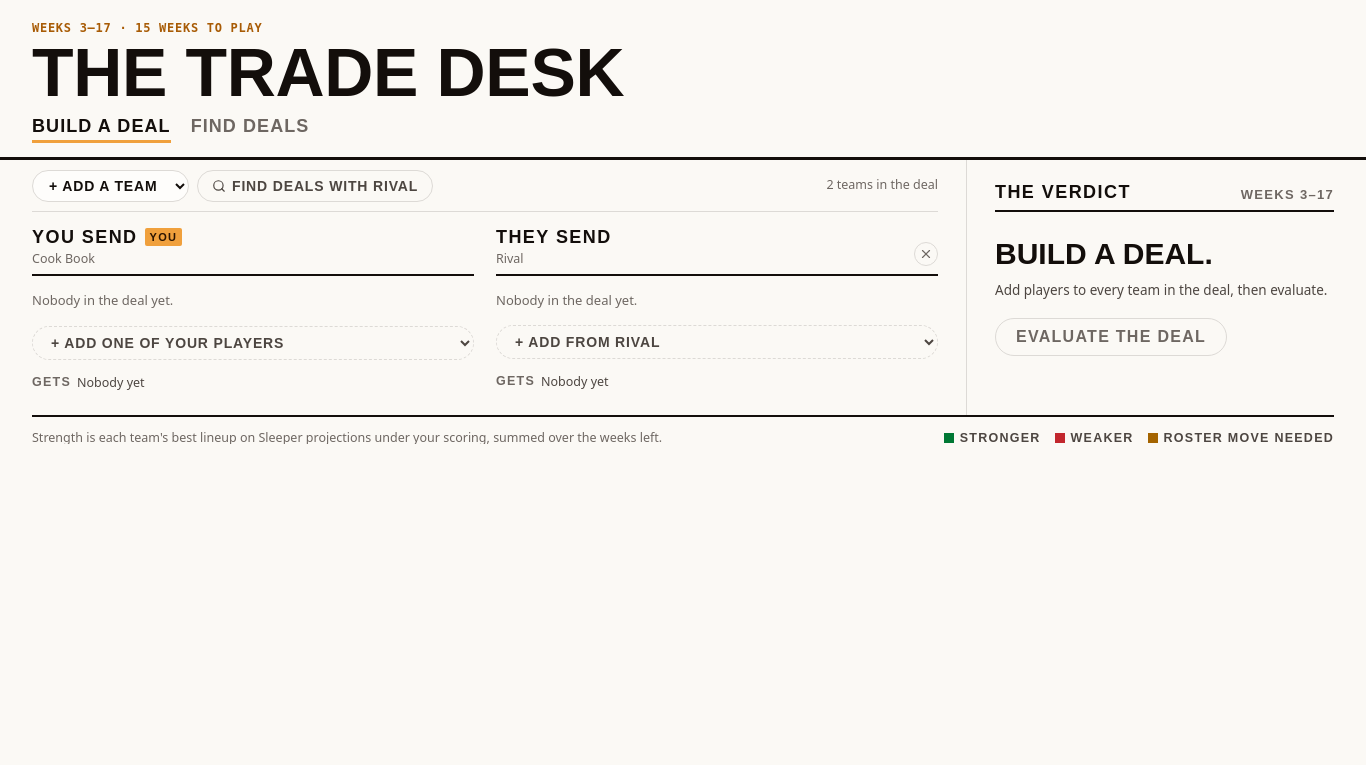
Test case: TradeScreen › shows a 3-team card with its path, every other team and the other ways
Expected: the dropdown named "Add to You send" is shown, [32, 326, 474, 360]
Click the tab "Find deals" at (250, 130), box [191, 117, 309, 143]
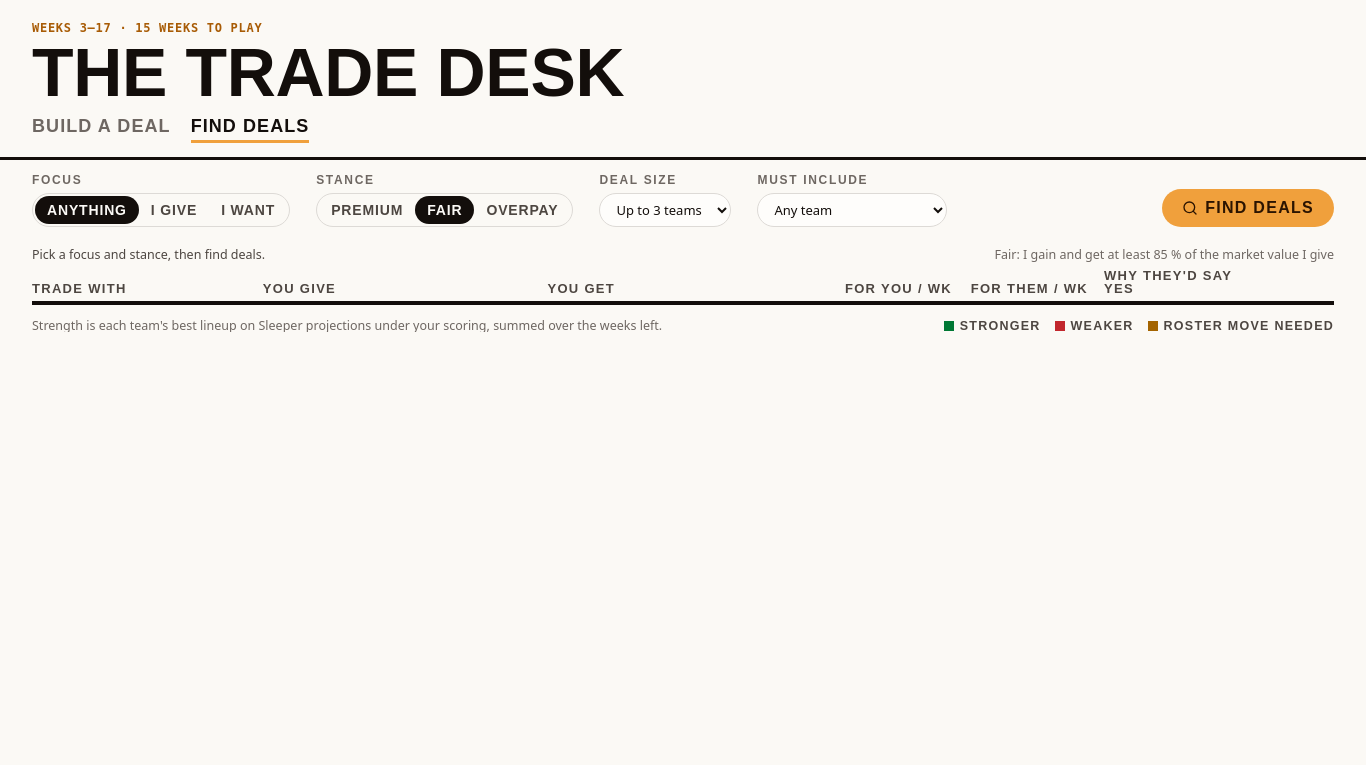
Click the button "Find deals" at (1248, 208), box [1162, 189, 1334, 227]
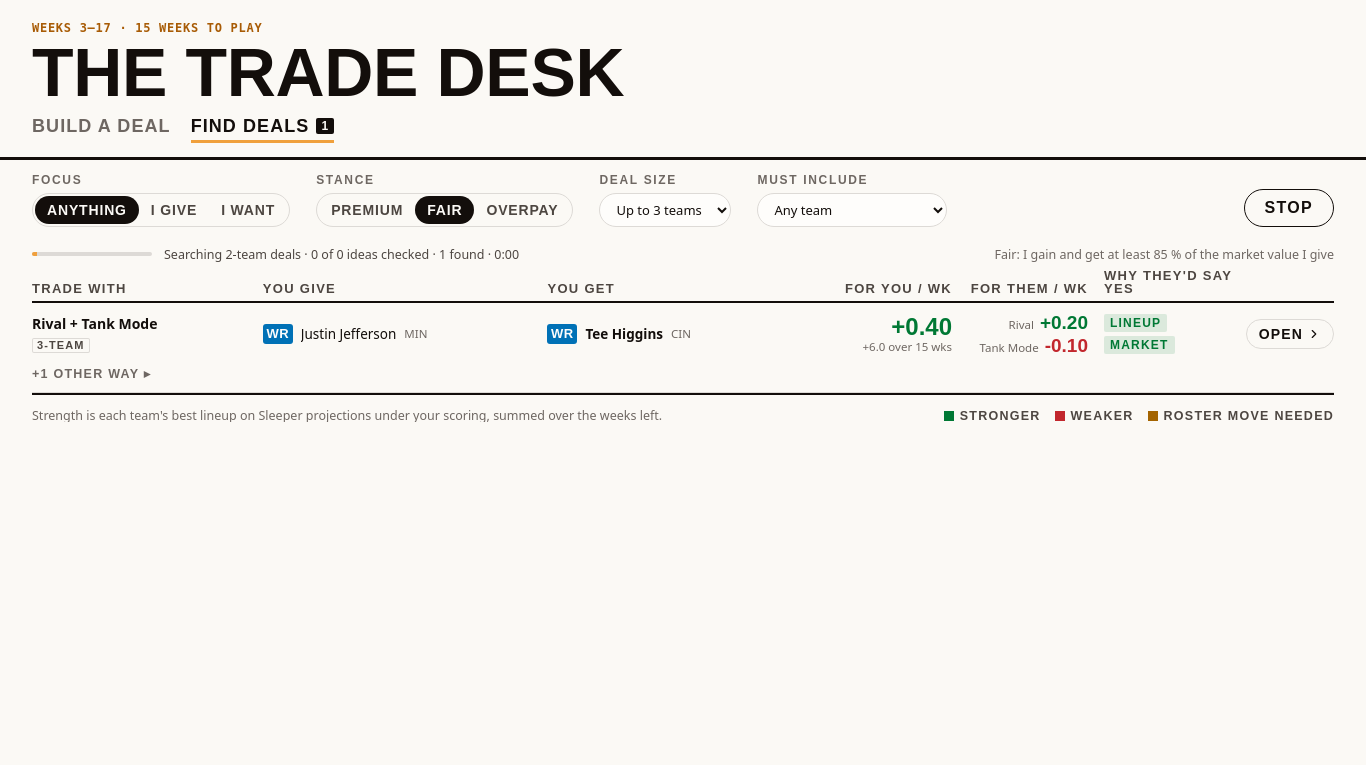
Now the text "3-team" is shown, box [32, 338, 90, 353]
Now the text "Rival + Tank Mode" is shown, box [32, 316, 158, 332]
Now the button "Justin Jefferson" is shown, box [301, 327, 396, 342]
Click the button "+1 other way ▸" at (92, 374), box [32, 368, 151, 381]
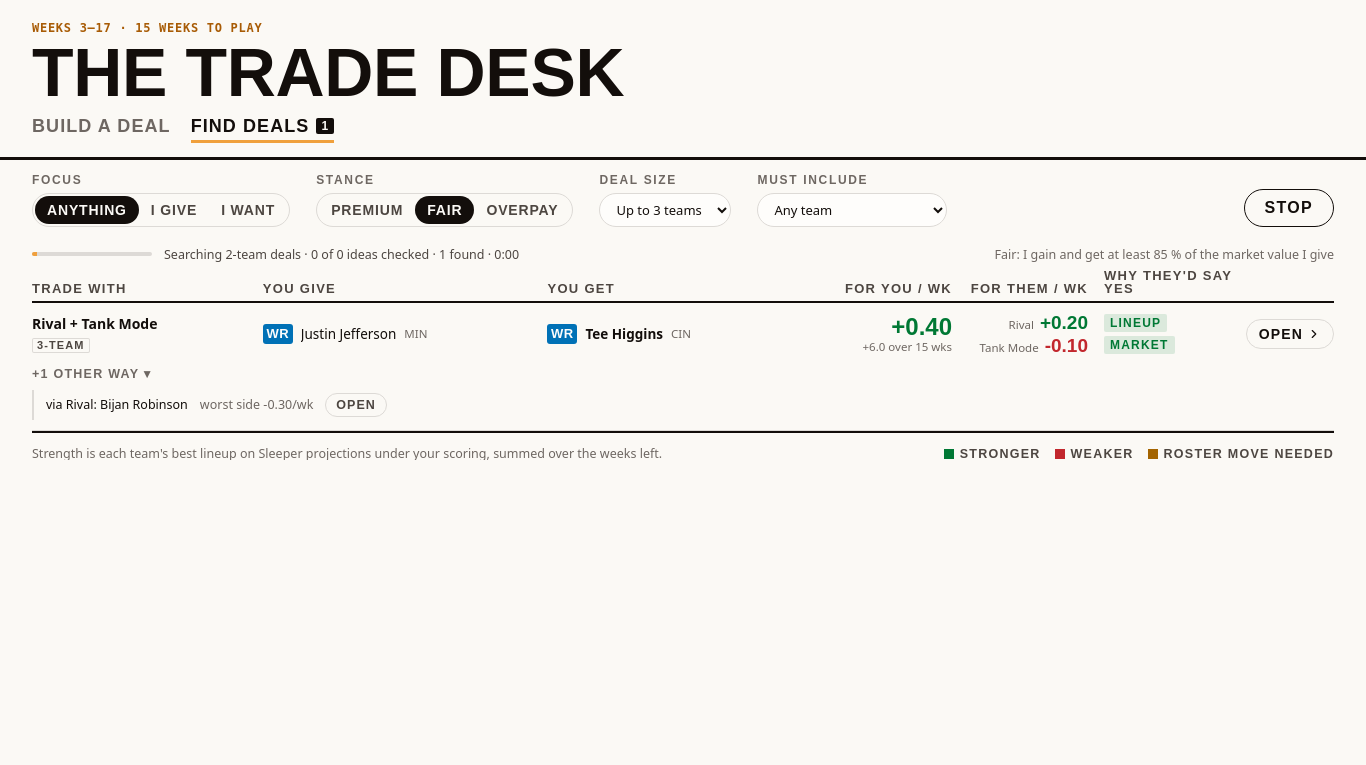
Now the text "via Rival: Bijan Robinson" is shown, box [46, 399, 188, 411]
Now the text "worst side -0.30/wk" is shown, box [200, 399, 313, 411]
Click the button "Open" next to "/wk" at (356, 405), box [325, 393, 387, 417]
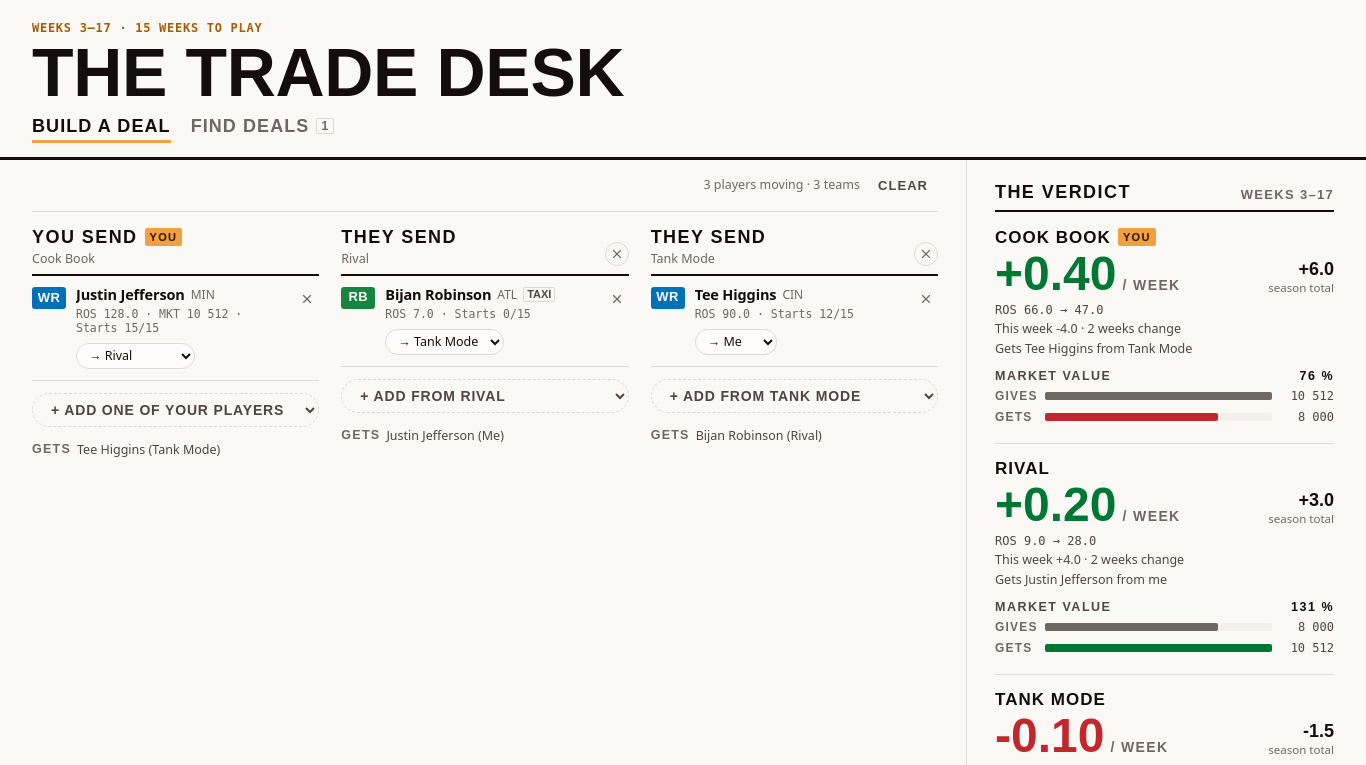
Now the button named "Remove team Tank Mode" is shown, box [914, 242, 938, 266]
Now the button "Bijan Robinson" is shown, box [385, 287, 491, 303]
